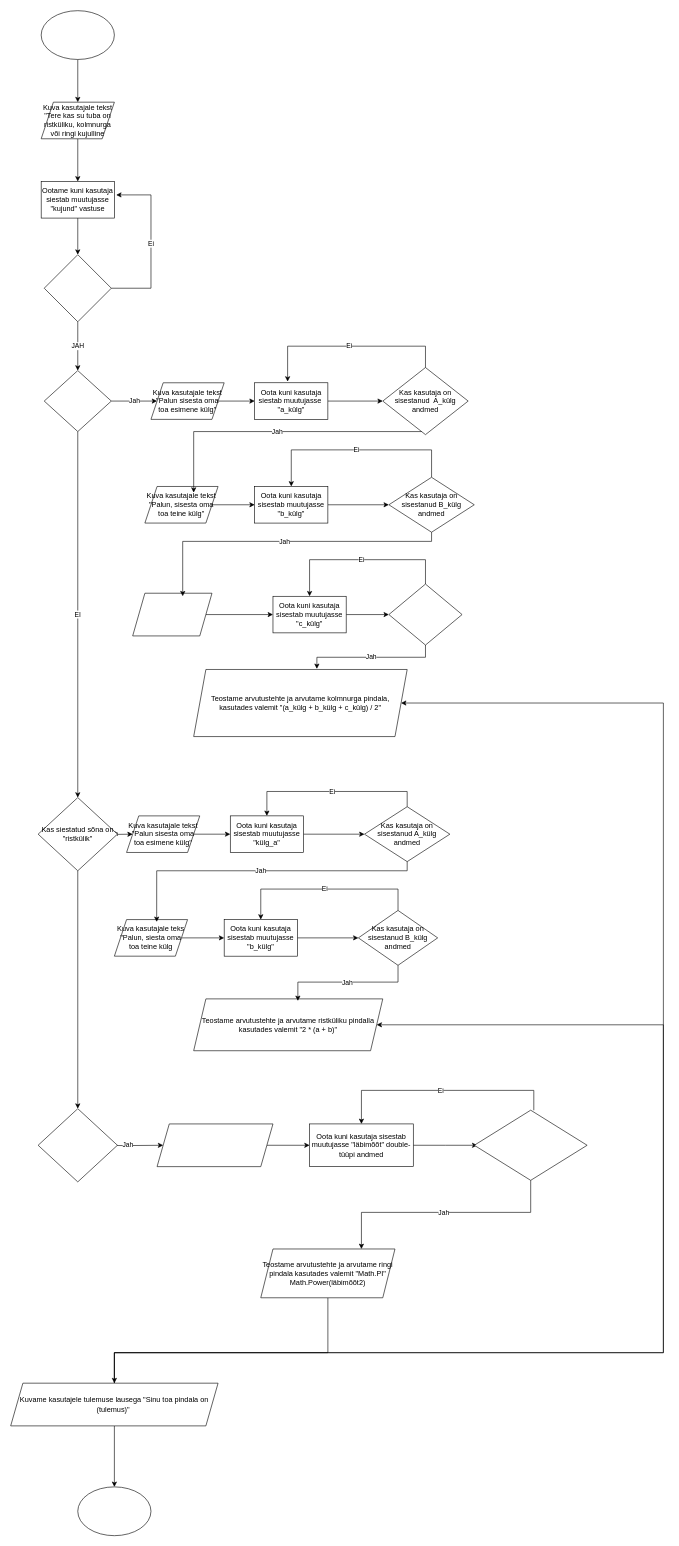
The diagram is 679 pixels wide and 1546 high, and some of its shapes have lost their labels. The box of each missing label's shape, as (x1, y1, x2, y2) in pixels:
Algus: (41, 10, 114, 59)
Kas kasutaja on sisestanud C_külg andmed: (388, 583, 462, 645)
Kas kasutaja on sisestanud läbimõõt andmed: (474, 1110, 587, 1180)
Kas kasutaja on sisestanud midagi: (44, 254, 111, 322)
Kas siestatud sõna on "kolmnurk": (44, 370, 111, 432)
Kas siestatud sõna on "ring": (38, 1108, 117, 1182)
Kuva kasutajale tekst "Palun sisesta oma toa läbimõõt": (156, 1123, 273, 1167)
Kuva kasutajale tekst "Palun, sisesta oma toa kolmas külg": (132, 593, 212, 636)
Lõpp: (77, 1486, 151, 1536)
